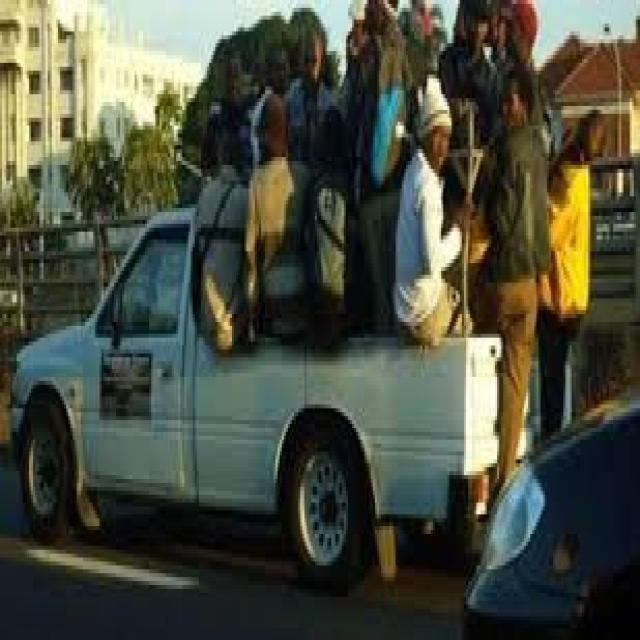Pickup Trucks: (8, 208, 572, 597)
